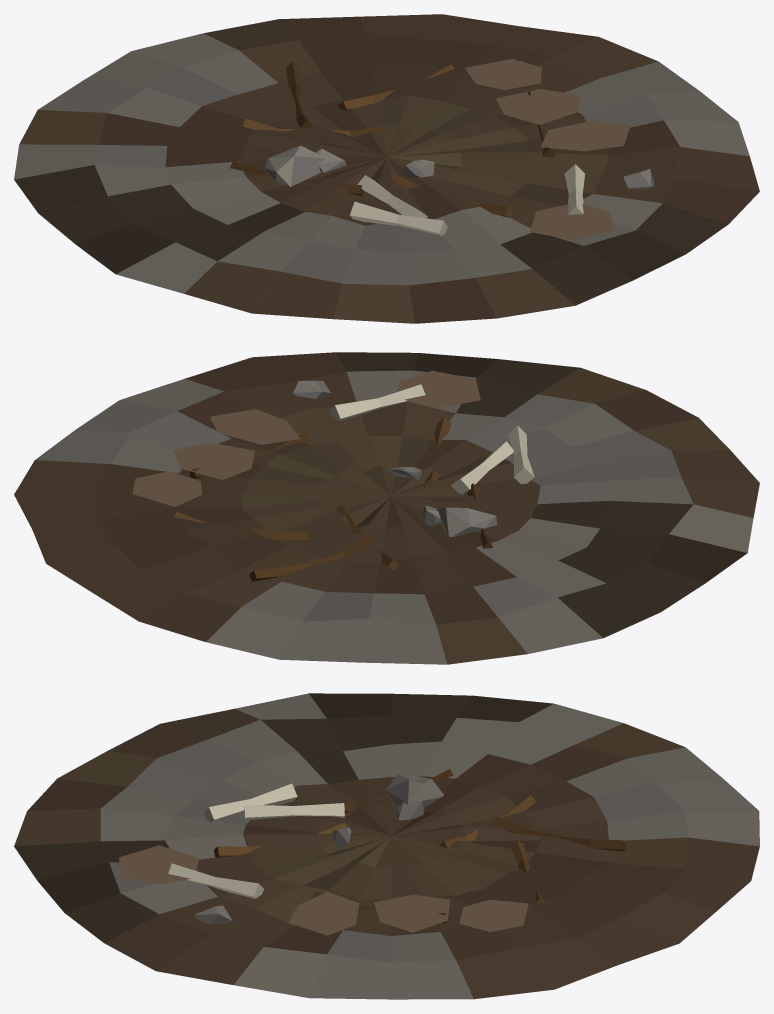
Rendered from waste_pit_riempimento.glb.
The picture shows the model from 3 angles, top to bottom: view 1: azimuth 30°, elevation 25°; view 2: azimuth 150°, elevation 25°; view 3: azimuth 270°, elevation 25°; orthographic projection.
Visible parts, largest first — view 1: waste_pit_riempimento; view 2: waste_pit_riempimento; view 3: waste_pit_riempimento.
Part boxes in pixels (x1,y1,x2,y2): waste_pit_riempimento: [14, 14, 759, 323]; waste_pit_riempimento: [14, 352, 759, 664]; waste_pit_riempimento: [14, 693, 759, 999].
Size of the model in its own units: 5.08 by 0.2616 by 5.23.
